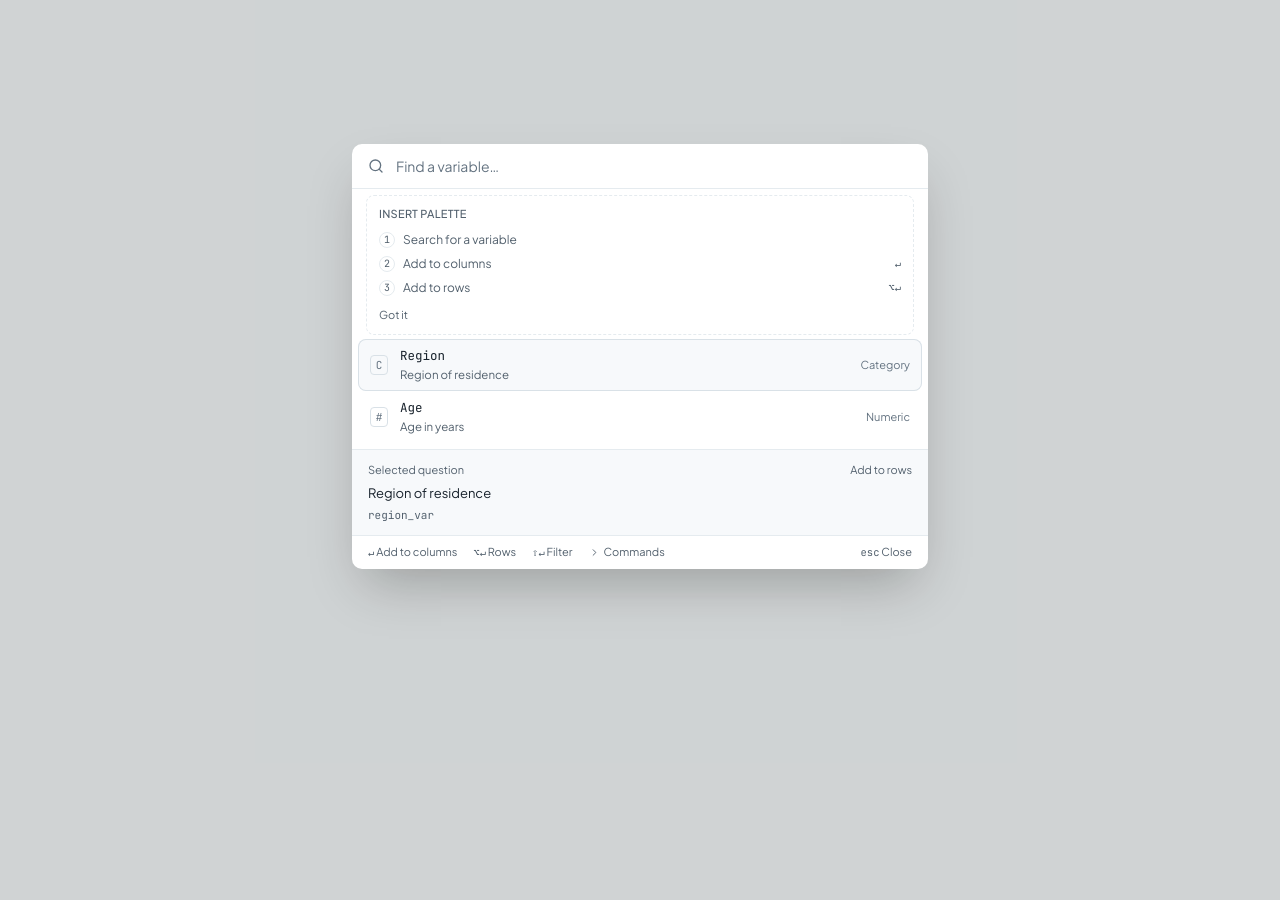
Scenario: CommandPalette (insert palette) › palette onboarding ghost (DESIGN-CONV-D) › persists dismiss when Got it is clicked
Click the button "Got it" at (394, 315), box x1=379 y1=306 x2=408 y2=323
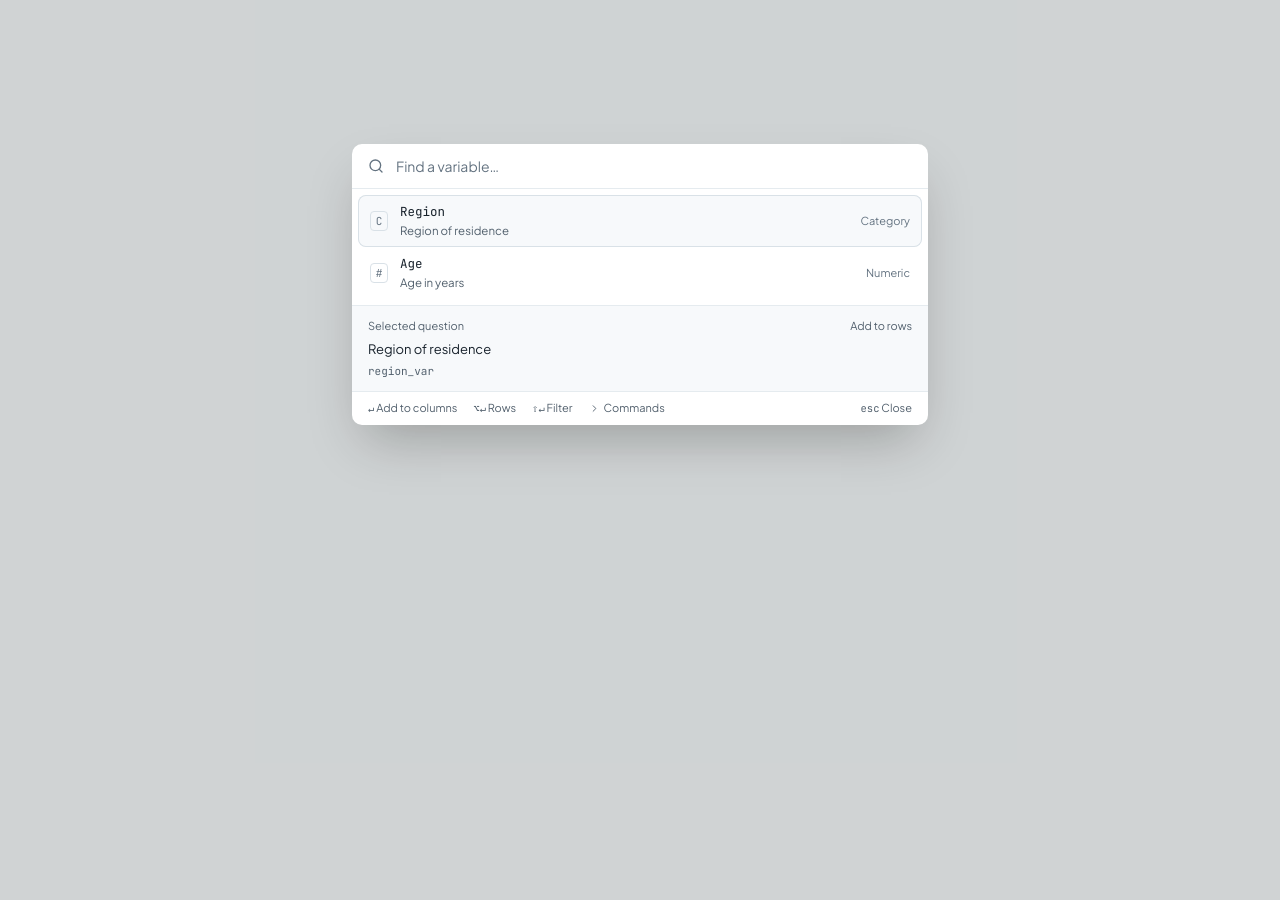
Check: the element with test id "palette-onboarding-ghost" is gone
